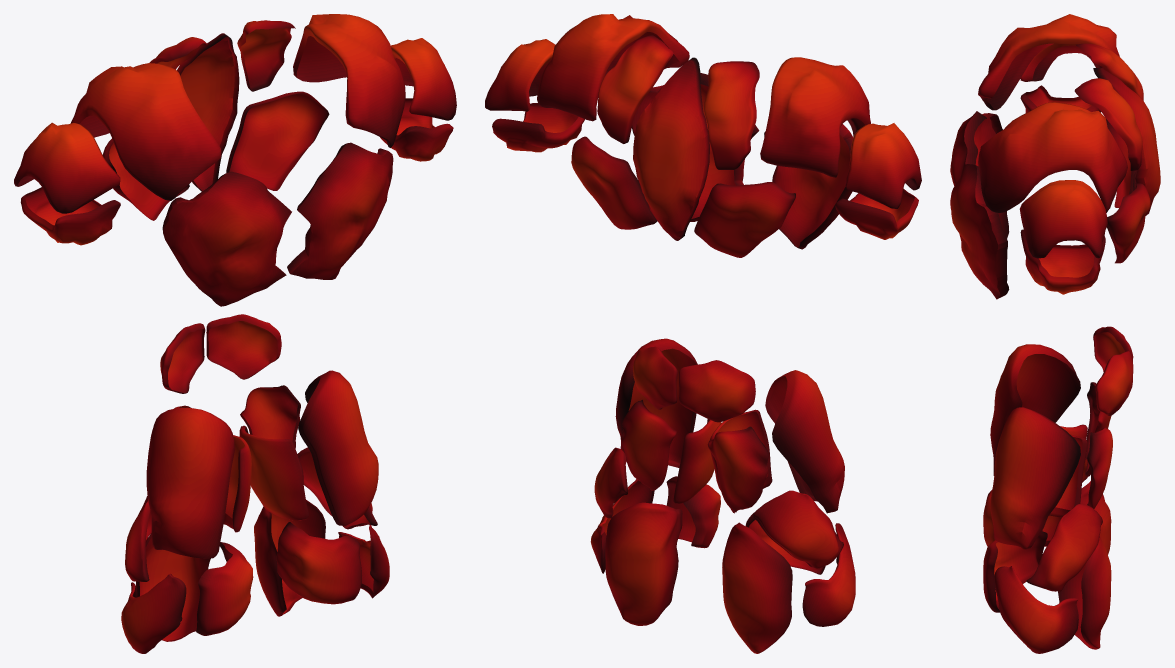
File: Lava Stones Textured 1.fbx
3 views of the same model, side by side, from view 1: azimuth 30°, elevation 25°; view 2: azimuth 150°, elevation 25°; view 3: azimuth 270°, elevation 25° (orthographic). The views are drawn at different scales.
Visible parts, largest first — view 1: Hombro_derecho, Pecho_Derecho, Muslo_Izquierdo, Hombro_izquierdo, Pecho_Izquierdo, Muslo_derecho, Dorsal_Izquierdo, Bicep_Derecho, Rodilla_Izquierda, Espalda_meido, muszloInterior_Izquierdo, Gluteo_Izquierdo (+16 smaller); view 2: Espalda_meido, Hombro_derecho, Gemelo_Izquierdo, Hombro_izquierdo, Muslo_Izquierdo, Gemelo_Derecho, Dorsal_Derecho, Trapecio_Derecho, Bicep_Derecho, Pecho_Derecho, Trapecio_Izquierdo, Rodilla_exterior_derecha (+17 smaller); view 3: Hombro_izquierdo, Muslo_derecho, Muslo_Izquierdo, Bicep_Izquierdo, Hombro_derecho, Pecho_Izquierdo, Tibia_Exterior_Izquierda, Rodilla_exterior_Izquierda, Gemelo_Izquierdo, Tricep_Izquierdo, Trapecio_Izquierdo, Espalda_meido (+14 smaller).
Part boxes in pixels (x1,y1,x2,y2): Hombro_derecho: (70,63,221,200); Pecho_Derecho: (162,171,291,306); Muslo_Izquierdo: (146,408,235,558); Hombro_izquierdo: (293,14,405,147); Pecho_Izquierdo: (287,142,393,279); Muslo_derecho: (298,370,378,525); Dorsal_Izquierdo: (226,91,329,190); Bicep_Derecho: (14,122,120,213); Rodilla_Izquierda: (276,522,361,604); Espalda_meido: (177,33,239,191); muszloInterior_Izquierdo: (239,425,308,520); Gluteo_Izquierdo: (206,314,281,379); Espalda_meido: (633,57,709,240); Hombro_derecho: (760,57,870,177); Gemelo_Izquierdo: (605,502,682,625); Hombro_izquierdo: (537,14,689,121); Muslo_Izquierdo: (765,370,844,513); Gemelo_Derecho: (722,522,792,653); Dorsal_Derecho: (694,182,795,257); Trapecio_Derecho: (704,61,759,169); Bicep_Derecho: (844,123,921,208); Pecho_Derecho: (764,124,853,249); Trapecio_Izquierdo: (597,35,673,143); Rodilla_exterior_derecha: (752,490,843,568); Hombro_izquierdo: (978,102,1127,212); Muslo_derecho: (990,407,1080,549); Muslo_Izquierdo: (990,344,1080,475); Bicep_Izquierdo: (1019,180,1107,258); Hombro_derecho: (978,14,1119,110); Pecho_Izquierdo: (950,164,1009,299); Tibia_Exterior_Izquierda: (994,566,1078,653); Rodilla_exterior_Izquierda: (1026,504,1102,591); Gemelo_Izquierdo: (1058,536,1111,649); Tricep_Izquierdo: (1020,229,1105,294); Trapecio_Izquierdo: (1074,78,1142,170); Espalda_meido: (1093,68,1160,215).
Size of the model in its own units: 2.84 by 3.85 by 1.31.
